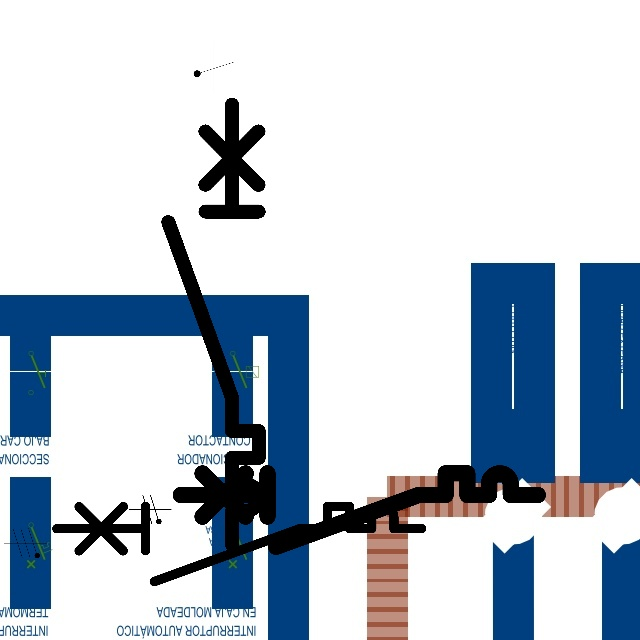interruptor_termomagnetico: (157, 93, 270, 556), (47, 497, 431, 591), (171, 464, 546, 556)
